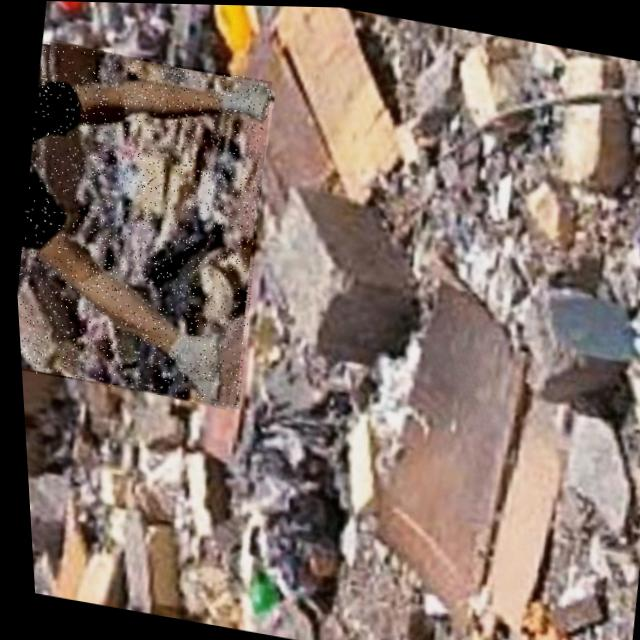Person in Rubble: (2, 39, 286, 409)
